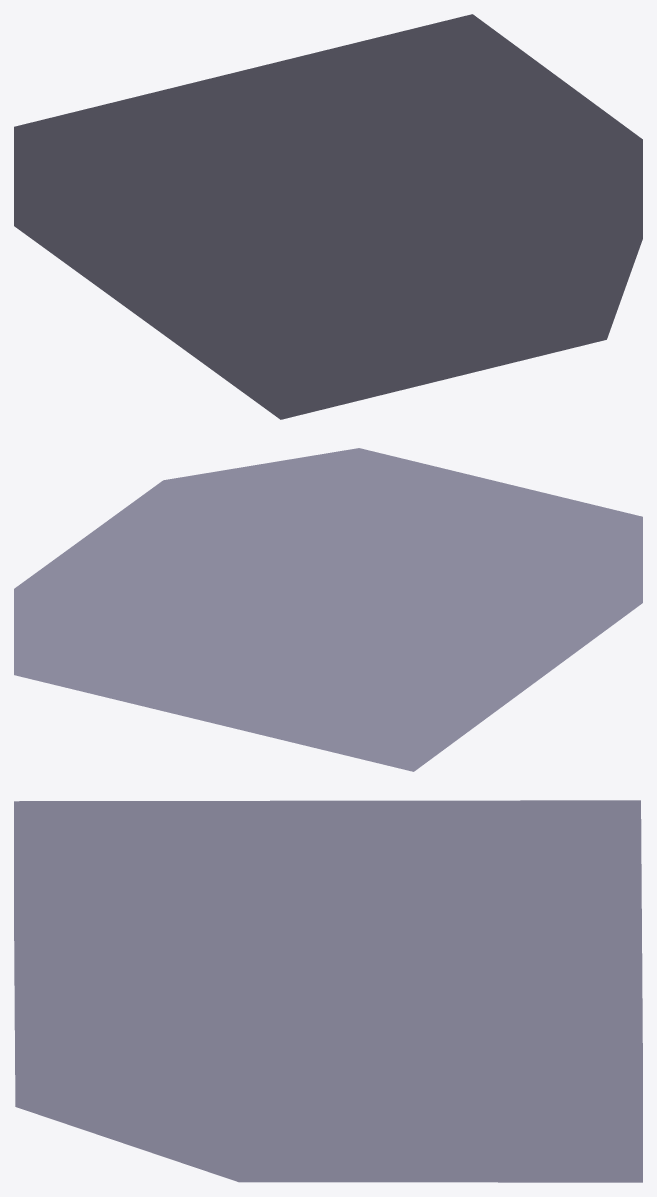
3 views of the same model, one above another, from view 1: azimuth 30°, elevation 25°; view 2: azimuth 150°, elevation 25°; view 3: azimuth 270°, elevation 25° (orthographic). The views are drawn at different scales.
Visible parts, largest first — view 1: Cube.1_66; view 2: Cube.1_66; view 3: Cube.1_66.
Boxes of the visible parts, x1,y1,x2,y2 form: Cube.1_66: [14, 14, 642, 419]; Cube.1_66: [14, 448, 642, 771]; Cube.1_66: [14, 800, 642, 1182].
Size of the model in its own units: 272 by 56.07 by 272.
